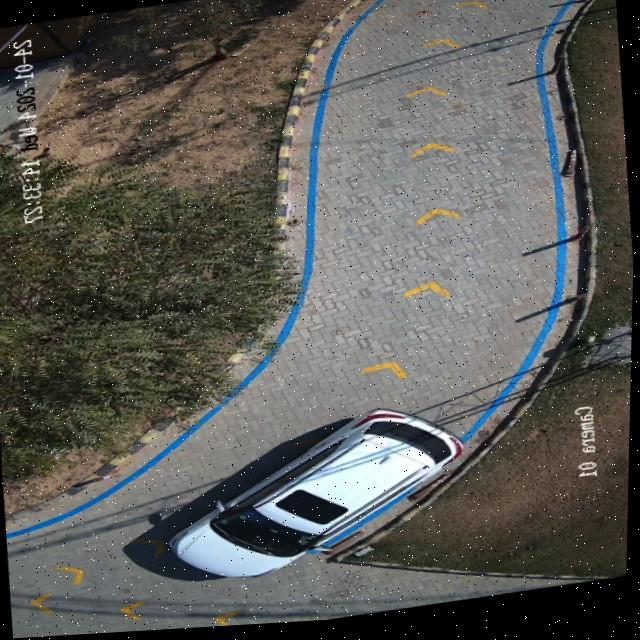car: (173, 412, 466, 579)
